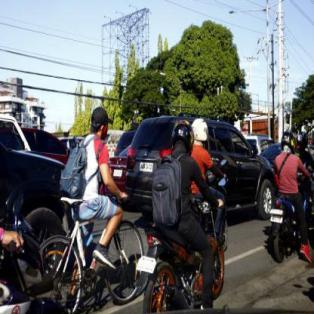Motocicleta: (137, 204, 226, 313)
